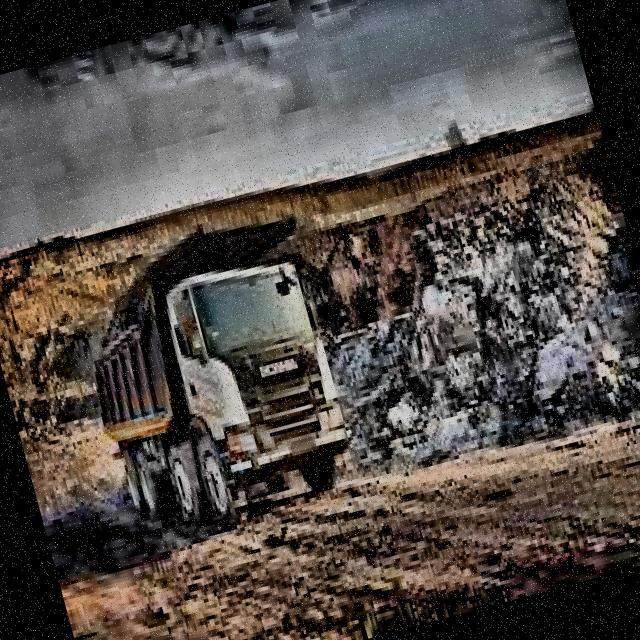dump_truck: (58, 205, 372, 553)
